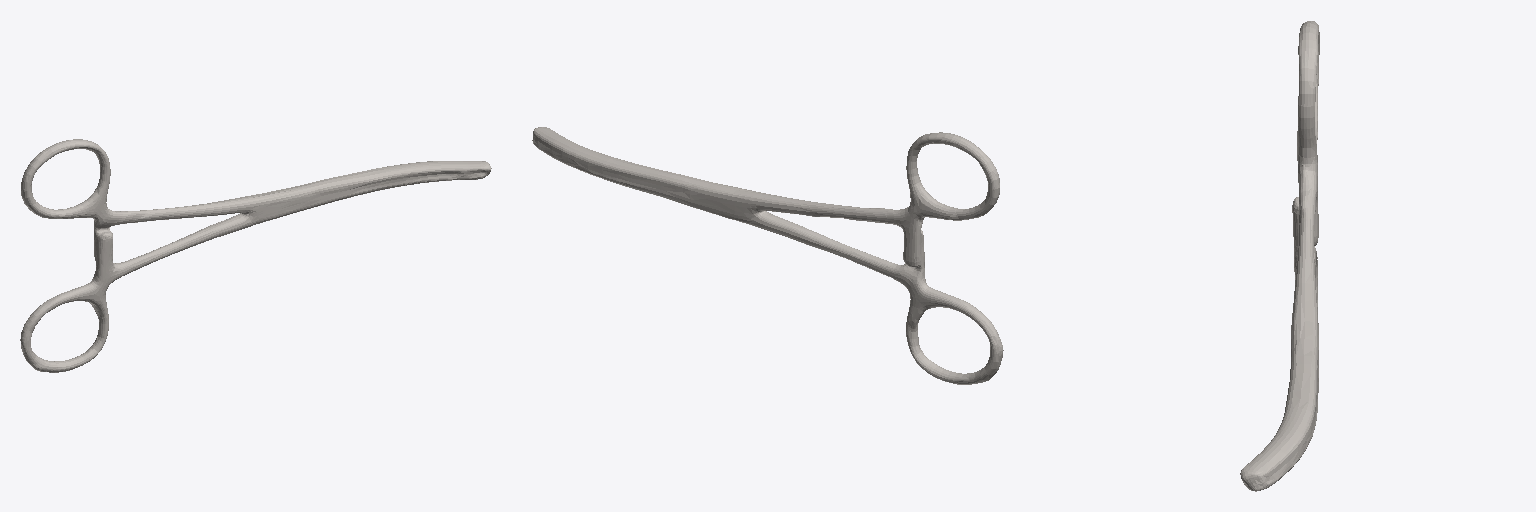
URDF robot description (Tooling_9):
<?xml version="1.0" encoding="utf-8"?>
<!-- This URDF was automatically created by SolidWorks to URDF Exporter! Originally created by Stephen Brawner (brawner@gmail.com)
     Commit Version: 1.6.0-4-g7f85cfe  Build Version: 1.6.7995.38578
     For more information, please see http://wiki.ros.org/sw_urdf_exporter -->
<robot
  name="Tooling_9">
  <link
    name="base_link">
    <inertial>
      <origin
        xyz="-1.8796E-06 7.4053E-05 0.0012712"
        rpy="0 0 0" />
      <mass
        value="0.054996" />
      <inertia
        ixx="1.1241E-05"
        ixy="-1.7529E-06"
        ixz="-3.9523E-06"
        iyy="0.0001258"
        iyz="1.0709E-08"
        izz="0.00013631" />
    </inertial>
    <visual>
      <origin
        xyz="0 0 0"
        rpy="0 0 0" />
      <geometry>
        <mesh
          filename="../meshes/base_link.STL" />
      </geometry>
      <material
        name="">
        <color
          rgba="0.77647 0.75686 0.73725 1" />
      </material>
    </visual>
    <collision>
      <origin
        xyz="0 0 0"
        rpy="0 0 0" />
      <geometry>
        <mesh
          filename="../meshes/base_link.STL" />
      </geometry>
    </collision>
  </link>
</robot>

--- What the picture shows (computed from the rendered views, not written in the file) ---
3 views of the same robot in one strip: view 1: azimuth 30°, elevation 25°; view 2: azimuth 150°, elevation 25°; view 3: azimuth 270°, elevation 25° (orthographic).
Model Tooling_9 with 1 links and 0 joints (none), rooted at base_link, posed all joints at 0.
Links seen in each view (by area): view 1: base_link; view 2: base_link; view 3: base_link.
Link boxes in pixels (left/top/right/bottom): base_link: left=20, top=139, right=491, bottom=372; base_link: left=532, top=127, right=1003, bottom=384; base_link: left=1240, top=21, right=1319, bottom=491.
Bounding box of the posed robot: 0.163 × 0.0169 × 0.0791 m (x, y, z).
1 mesh visuals loaded from 1 distinct referenced files (1 binary STL).
